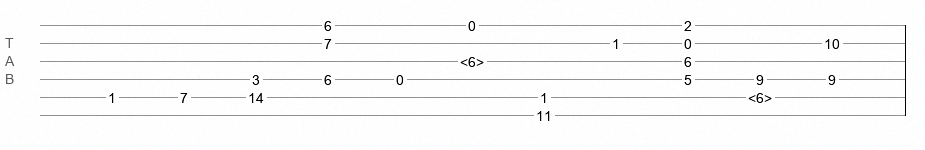0: (396, 72, 404, 82), (468, 18, 476, 28), (684, 36, 692, 46)
1: (108, 90, 116, 100), (540, 90, 548, 100), (612, 36, 620, 46)
10: (824, 36, 840, 46)
11: (536, 108, 552, 118)
14: (248, 90, 264, 100)
2: (684, 18, 692, 28)
3: (252, 72, 260, 82)
5: (684, 72, 692, 82)
6: (324, 18, 332, 28), (324, 72, 332, 82), (684, 54, 692, 64)
7: (180, 90, 188, 100), (324, 36, 332, 46)
9: (756, 72, 764, 82), (828, 72, 836, 82)
harmonic: (460, 54, 484, 64), (748, 90, 772, 100)
